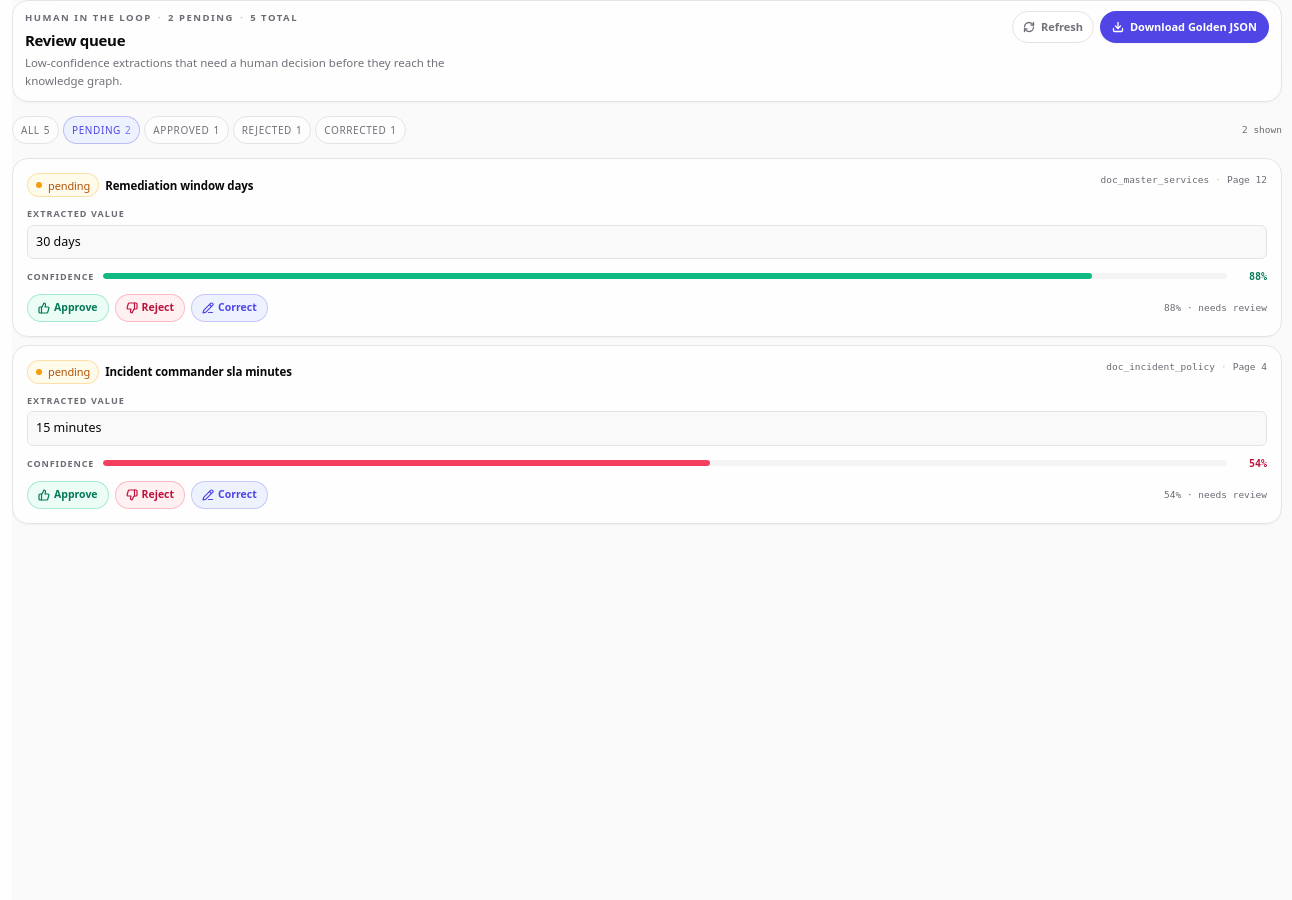
Scenario: ReviewQueuePanel › filters by status, including reviewed items
Click the button "corrected 1".
click(360, 130)  # box x1=315 y1=116 x2=406 y2=144
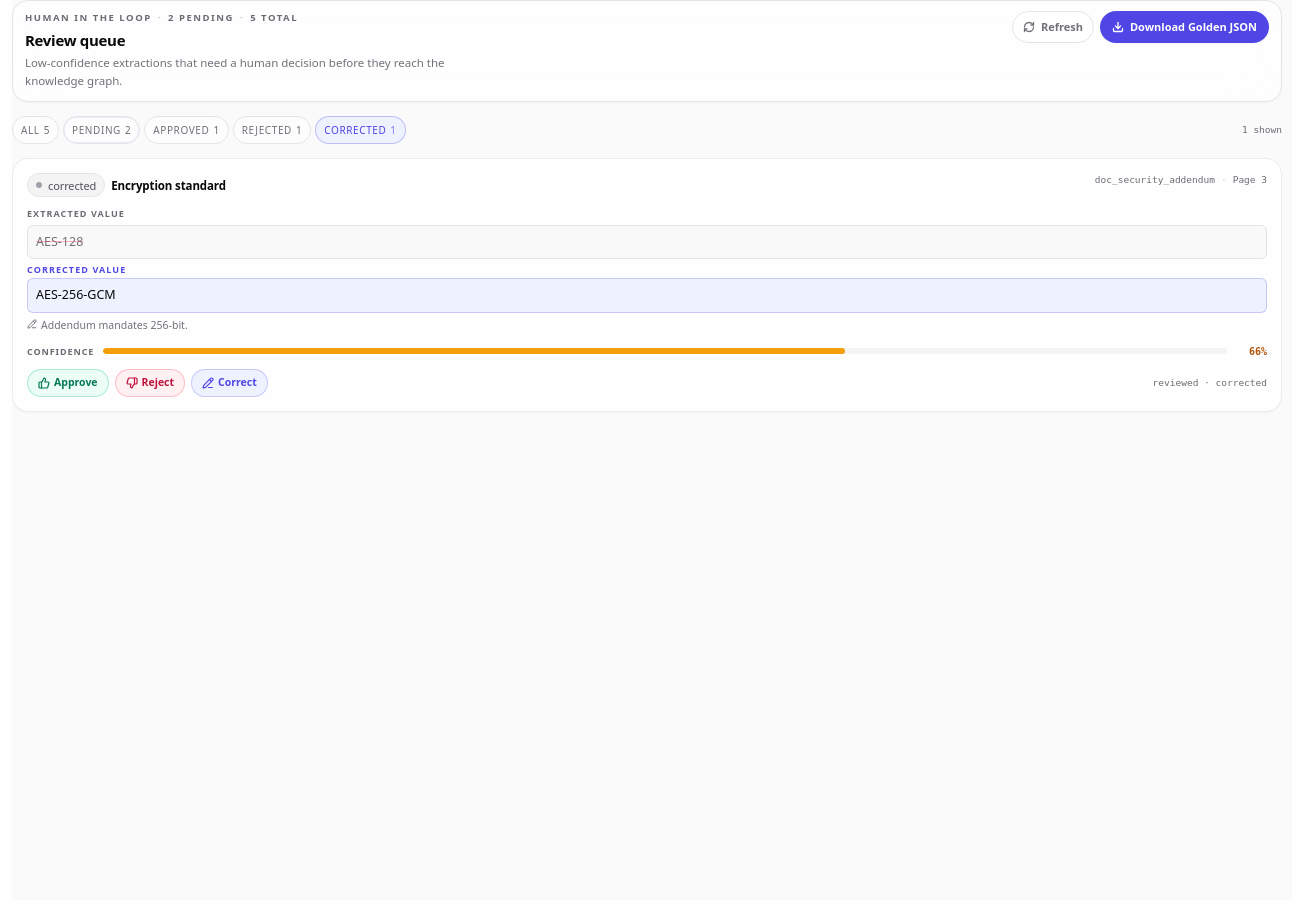
Result: the text "Encryption standard" is shown at x1=111 y1=176 x2=226 y2=194
Result: the text "AES-256-GCM" is shown at x1=27 y1=278 x2=1267 y2=313
Result: the text "Remediation window days" is gone
Click the button "all 5".
click(36, 130)  # box x1=12 y1=116 x2=59 y2=144
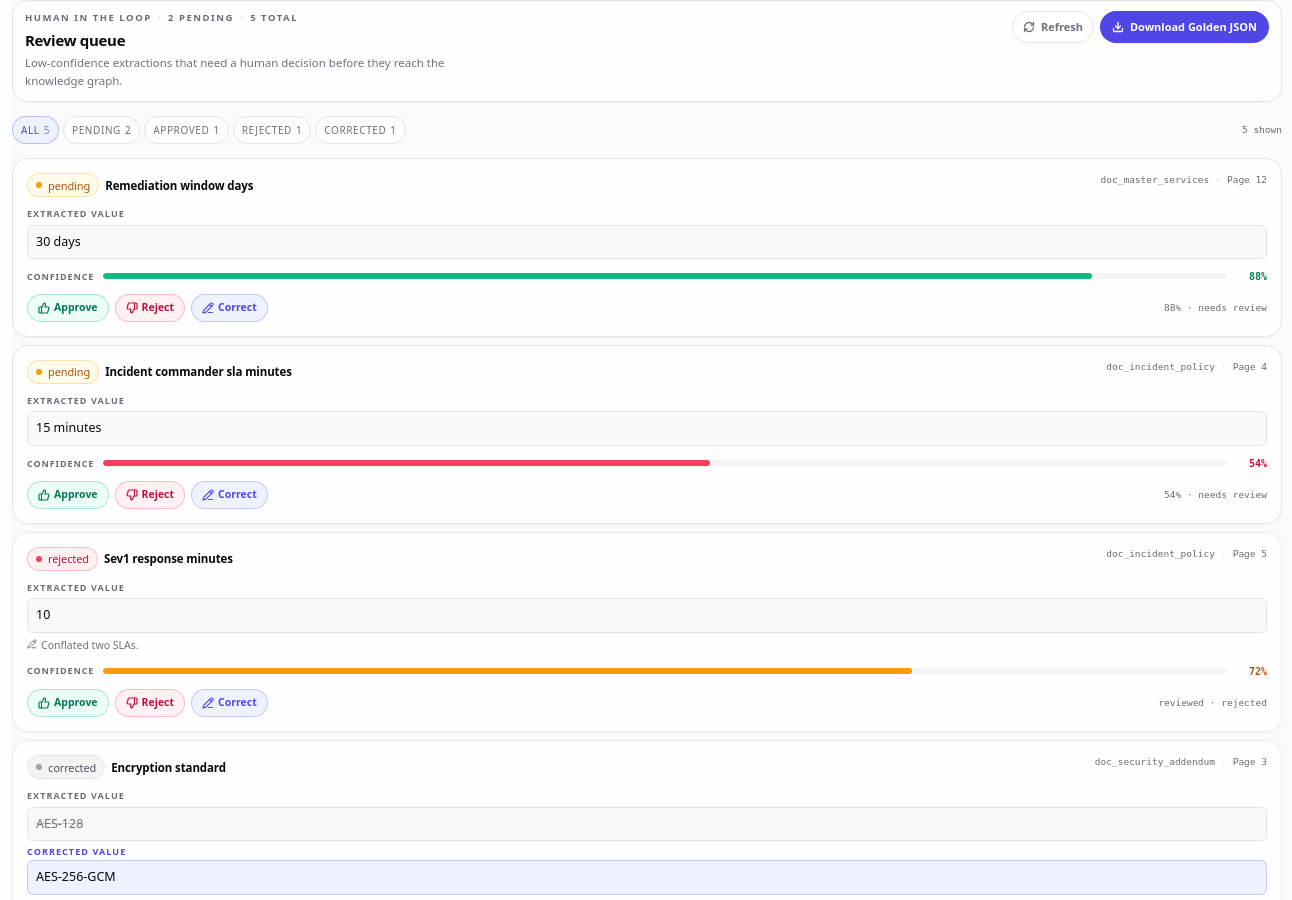
Result: the text "Encryption standard" is shown at x1=111 y1=758 x2=226 y2=775
Result: the text "Remediation window days" is shown at x1=105 y1=176 x2=253 y2=194
